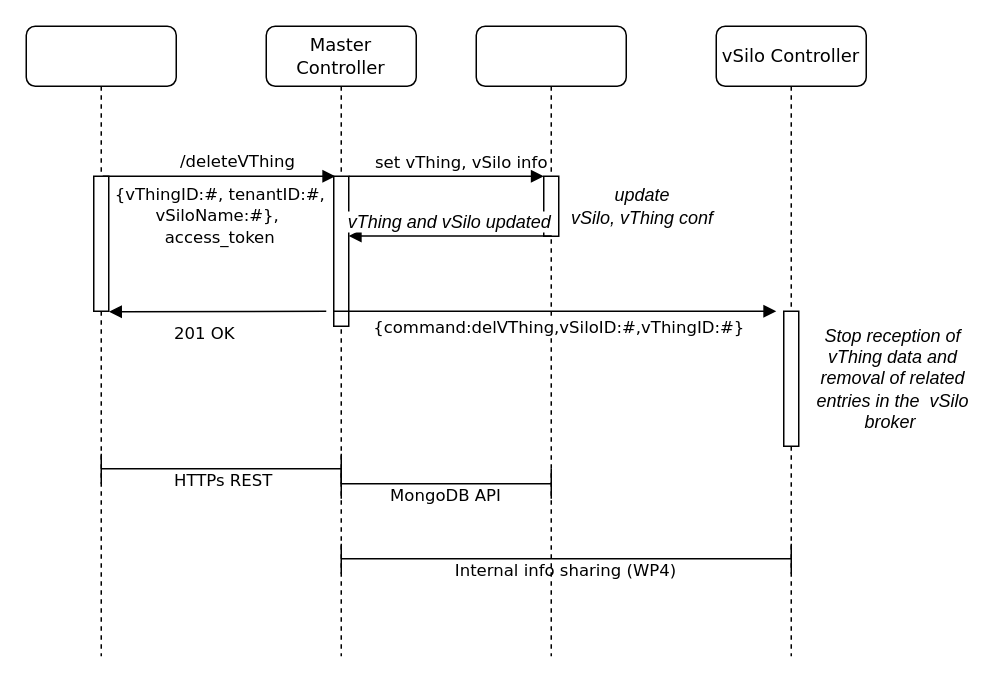
This 1001x683 diagram has some shape labels left out. The shapes that lost their labels are listed below. From the top down, each one's box as (x1, y1, x2, y2) in pixels, then its label:
(25, 25, 176, 656): Tenant
(475, 25, 626, 656): System DB
